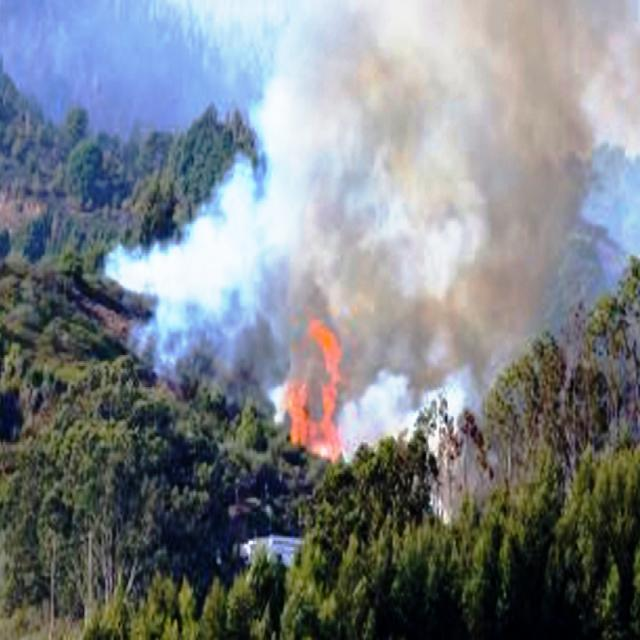api: (314, 333, 341, 452), (285, 392, 306, 454)
asap: (222, 3, 639, 329), (343, 335, 534, 448), (110, 188, 226, 372), (227, 316, 309, 391)
